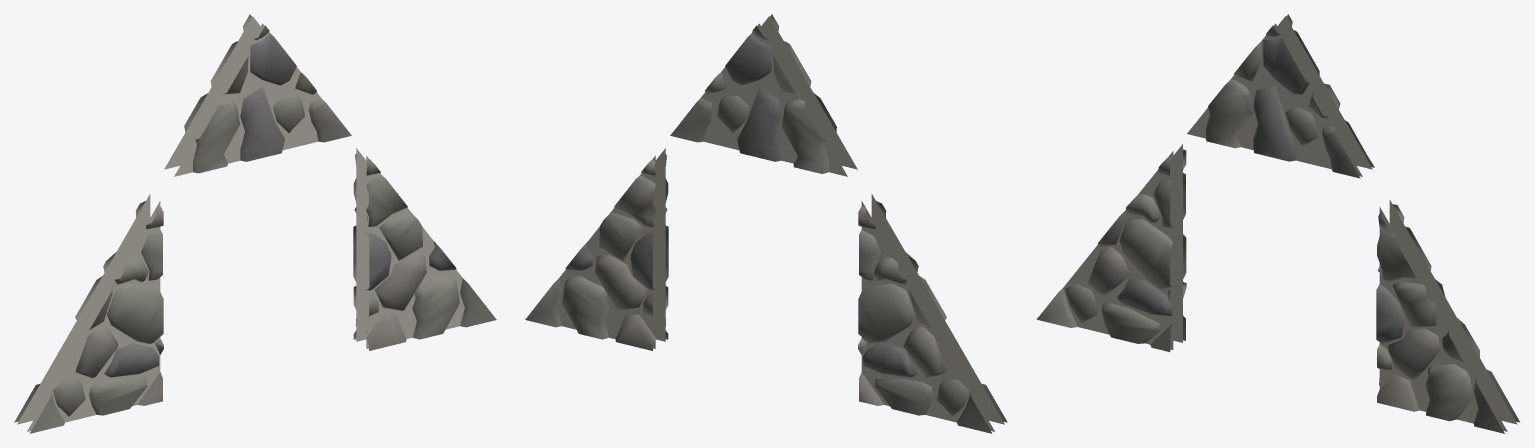
File: rpgpp_ag_roof_end_01_6x5_wall_door_04d.fbx
3 views of the same model, side by side, from view 1: azimuth 30°, elevation 25°; view 2: azimuth 150°, elevation 25°; view 3: azimuth 330°, elevation 25° (orthographic).
Visible parts, largest first — view 1: rpgpp_ag_roof_end_01_6x5_wall_door_04d; view 2: rpgpp_ag_roof_end_01_6x5_wall_door_04d; view 3: rpgpp_ag_roof_end_01_6x5_wall_door_04d.
Part boxes in pixels (x1,y1,x2,y2): rpgpp_ag_roof_end_01_6x5_wall_door_04d: (14,14,496,433); rpgpp_ag_roof_end_01_6x5_wall_door_04d: (525,14,1007,433); rpgpp_ag_roof_end_01_6x5_wall_door_04d: (1036,14,1520,433).
Bounding box in the file's own units: 6.38 × 4.58 × 0.404.
